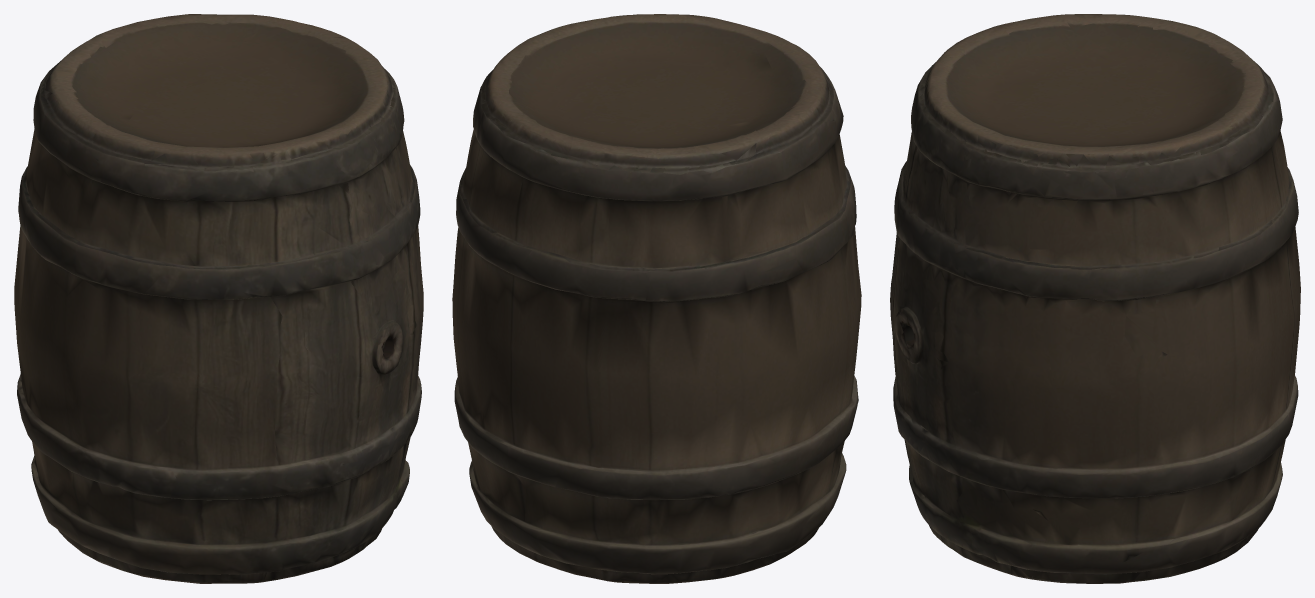
Rendered from barrel.glb.
The picture shows the model from 3 angles, left to right: view 1: azimuth 30°, elevation 25°; view 2: azimuth 150°, elevation 25°; view 3: azimuth 270°, elevation 25°; orthographic projection.
Parts seen in each view (by area): view 1: AW_Imported_barrel; view 2: AW_Imported_barrel; view 3: AW_Imported_barrel.
Part boxes in pixels (bbox=[...]): AW_Imported_barrel: bbox=[14, 14, 423, 583]; AW_Imported_barrel: bbox=[452, 14, 861, 583]; AW_Imported_barrel: bbox=[890, 14, 1300, 583].
Size of the model in its own units: 0.772 by 0.8998 by 0.7761.
Materials: 1 (1 with a texture image).
